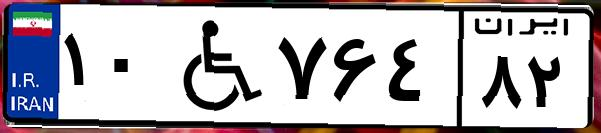0: (110, 28, 158, 98)
1: (57, 26, 110, 100)
2: (525, 38, 570, 115)
4: (385, 28, 445, 110)
6: (330, 28, 385, 110)
7: (270, 28, 330, 110)
8: (475, 38, 525, 113)
ژ (معلولین و جانبازان): (158, 12, 270, 120)
